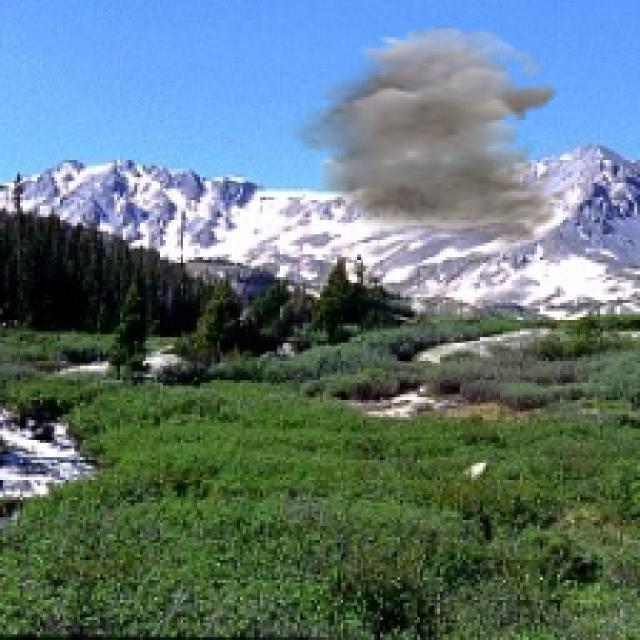smoke: (283, 26, 566, 246)
